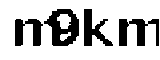9: (54, 7, 80, 51)
k: (82, 5, 112, 49)
m: (114, 12, 160, 53), (6, 19, 61, 48)
